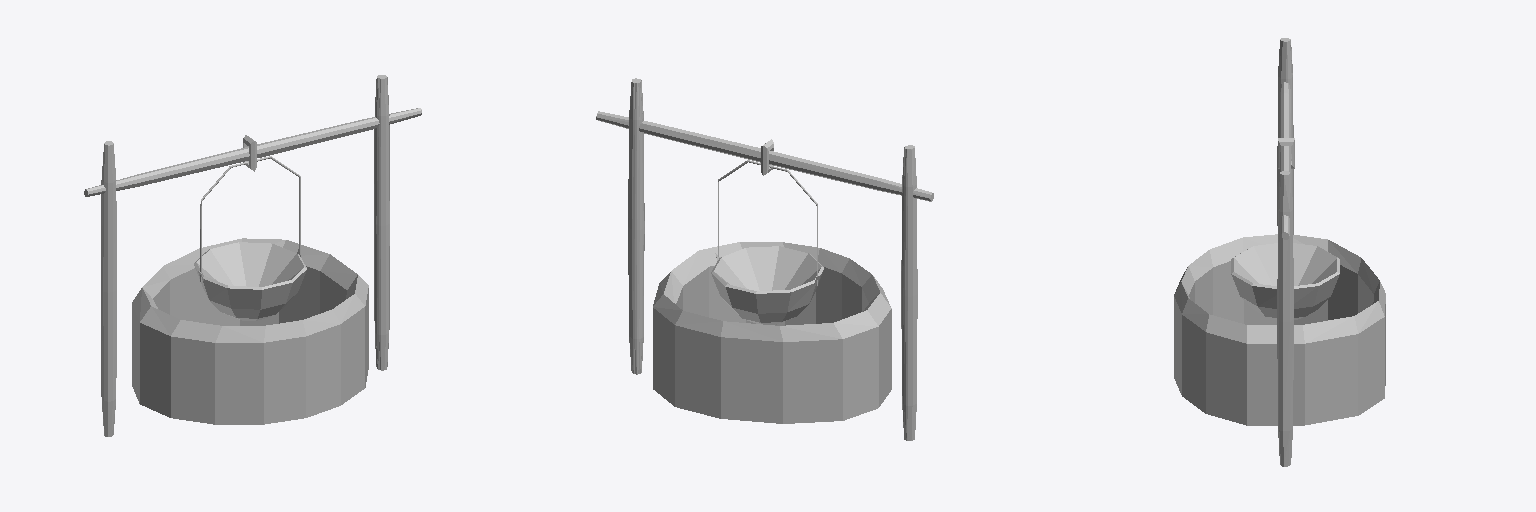
File: cookpot.obj
3 renders of one model, left to right at view 1: azimuth 30°, elevation 25°; view 2: azimuth 150°, elevation 25°; view 3: azimuth 270°, elevation 25°, orthographic.
Visible parts, largest first — view 1: CookingPpotHighPoly; view 2: CookingPpotHighPoly; view 3: CookingPpotHighPoly.
Part boxes in pixels (left/top/right/bottom): CookingPpotHighPoly: left=84, top=75, right=421, bottom=436; CookingPpotHighPoly: left=596, top=78, right=933, bottom=440; CookingPpotHighPoly: left=1174, top=38, right=1385, bottom=466.
Bounding box in the file's own units: 1.43 × 1.19 × 0.7857.